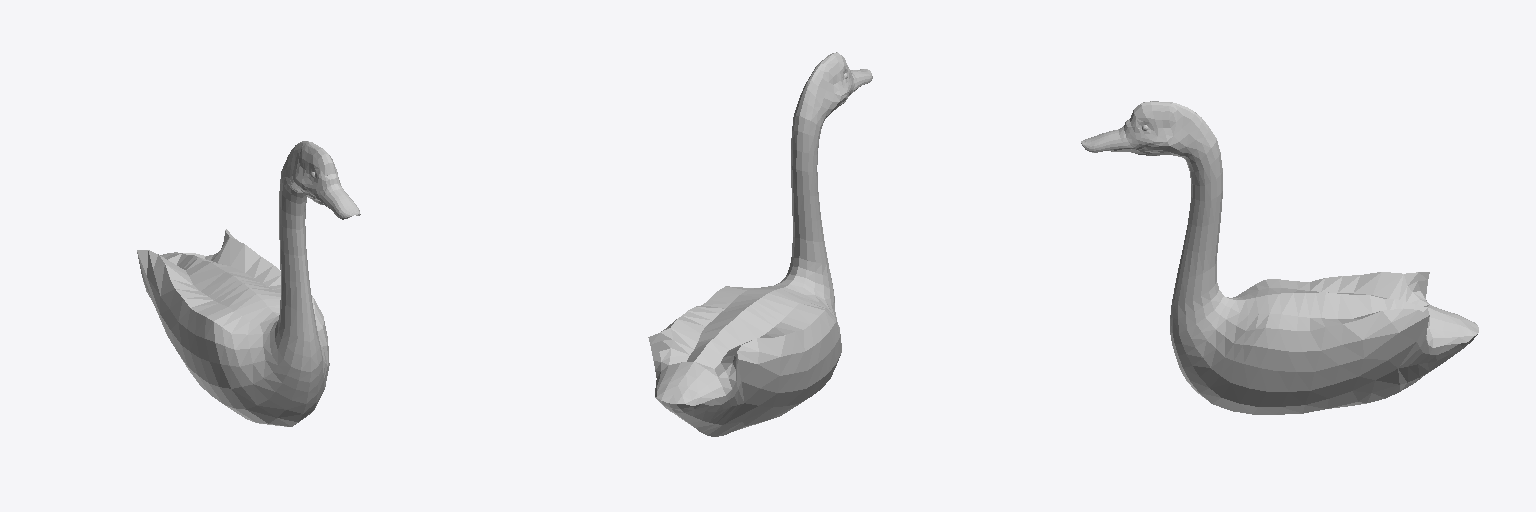
File: SWAN.OBJ
3 renders of one model, left to right at view 1: azimuth 30°, elevation 25°; view 2: azimuth 150°, elevation 25°; view 3: azimuth 270°, elevation 25°, orthographic.
Parts seen in each view (by area): view 1: swan_body; view 2: swan_body; view 3: swan_body.
Part boxes in pixels (left/top/right/bottom): swan_body: left=137, top=141, right=360, bottom=426; swan_body: left=648, top=52, right=872, bottom=436; swan_body: left=1081, top=101, right=1478, bottom=414.
Bounding box in the file's own units: 0.1385 × 0.3557 × 0.4154.